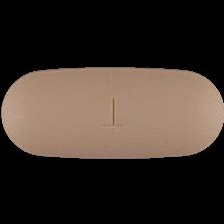68788-9707: (0, 0, 224, 224)
